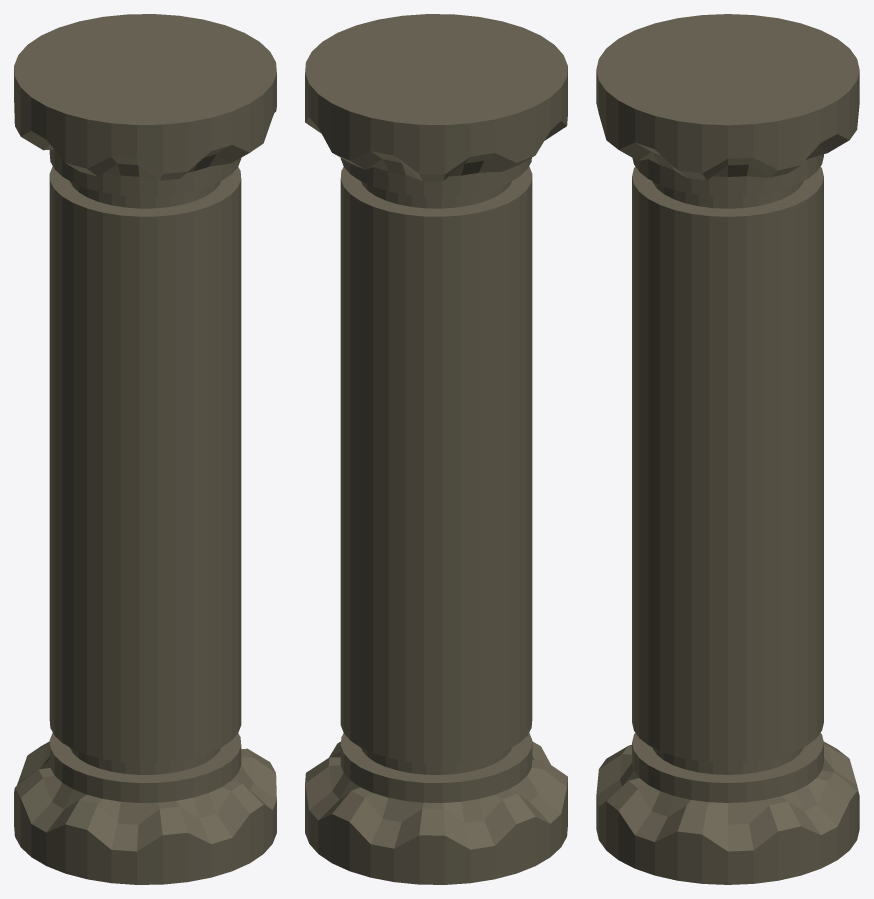
Rendered from Coloumn3.fbx.
3 views of the same model, side by side, from view 1: azimuth 30°, elevation 25°; view 2: azimuth 150°, elevation 25°; view 3: azimuth 270°, elevation 25° (orthographic).
Visible parts, largest first — view 1: Coloumn3; view 2: Coloumn3; view 3: Coloumn3.
Boxes of the visible parts, x1,y1,x2,y2 form: Coloumn3: [14, 14, 276, 884]; Coloumn3: [305, 14, 567, 884]; Coloumn3: [596, 14, 859, 884].
Bounding box in the file's own units: 94.26 × 300 × 94.26.
